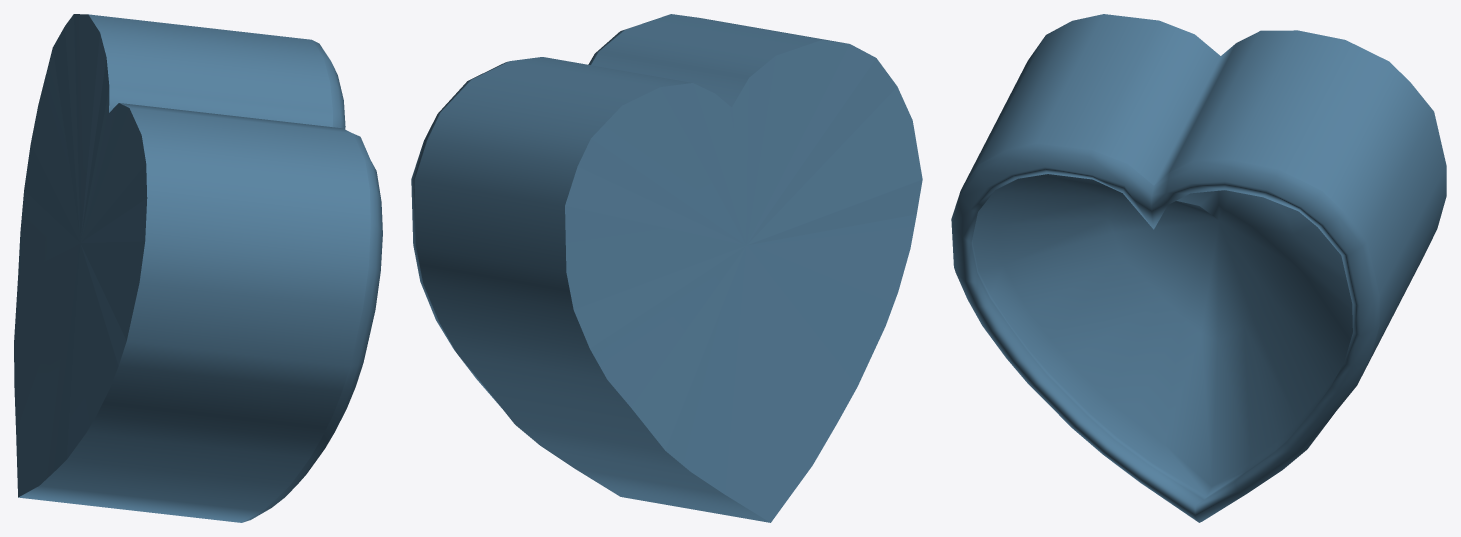
Rendered from TR5_8shapes_heart_Classic_Metal.001 2.glb.
3 renders of one model, left to right at view 1: azimuth 30°, elevation 25°; view 2: azimuth 150°, elevation 25°; view 3: azimuth 270°, elevation 25°, orthographic. The views are drawn at different scales.
Parts seen in each view (by area): view 1: TR5_8shapes_heart_Classic_Metal.001; view 2: TR5_8shapes_heart_Classic_Metal.001; view 3: TR5_8shapes_heart_Classic_Metal.001.
Part boxes in pixels (x1=…): TR5_8shapes_heart_Classic_Metal.001: x1=14, y1=14, x2=382, y2=522; TR5_8shapes_heart_Classic_Metal.001: x1=411, y1=14, x2=922, y2=522; TR5_8shapes_heart_Classic_Metal.001: x1=951, y1=14, x2=1446, y2=522.
Bounding box in the file's own units: 0.4298 × 0.567 × 0.5665.
